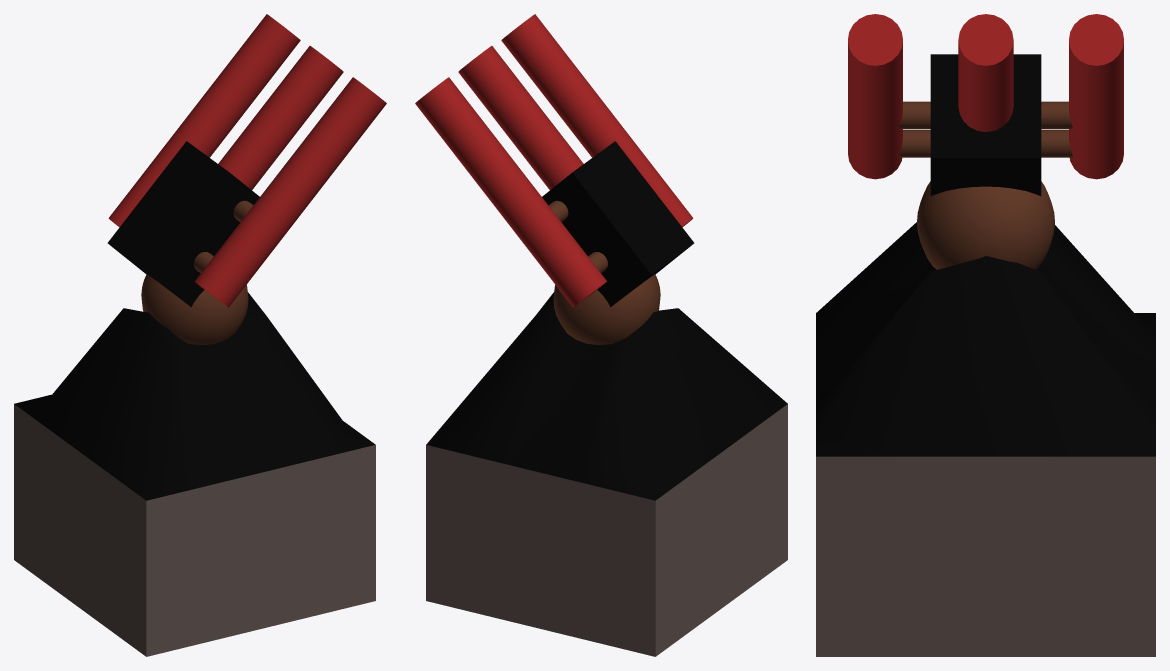
Rendered from new turret.fbx.
The picture shows the model from 3 angles, left to right: view 1: azimuth 30°, elevation 25°; view 2: azimuth 150°, elevation 25°; view 3: azimuth 270°, elevation 25°; orthographic projection. The views are drawn at different scales.
Visible parts, largest first — view 1: pCube1, pCube2, pCylinder3, pCylinder4, pCylinder5, pSphere1; view 2: pCube1, pCube2, pCylinder4, pCylinder3, pCylinder5, pSphere1; view 3: pCube1, pCube2, pSphere1, pCylinder3, pCylinder4, pCylinder5, pCylinder9, pCylinder6.
Boxes of the visible parts, <box> form: pCube1: <box>14,292,375,656</box>; pCube2: <box>107,141,259,307</box>; pCylinder3: <box>195,77,386,307</box>; pCylinder4: <box>108,14,300,227</box>; pCylinder5: <box>218,46,343,189</box>; pSphere1: <box>141,274,248,344</box>; pCube1: <box>426,292,787,656</box>; pCube2: <box>542,141,694,307</box>; pCylinder4: <box>415,77,606,307</box>; pCylinder3: <box>501,14,693,227</box>; pCylinder5: <box>458,46,583,189</box>; pSphere1: <box>553,274,660,344</box>; pCube1: <box>816,222,1155,656</box>; pCube2: <box>930,54,1041,196</box>; pSphere1: <box>917,181,1054,269</box>; pCylinder3: <box>848,14,902,179</box>; pCylinder4: <box>1069,14,1123,179</box>; pCylinder5: <box>958,14,1013,131</box>; pCylinder9: <box>899,101,1072,129</box>; pCylinder6: <box>899,130,1072,157</box>.
Size of the model in its own units: 6.96 by 12.89 by 6.15.
